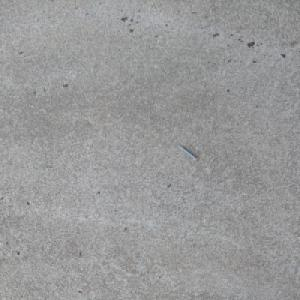Screw: (177, 144, 199, 160)
